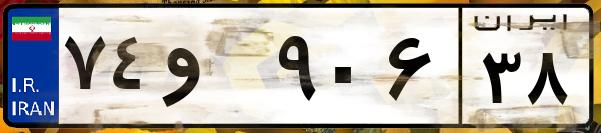0: (330, 28, 385, 110)
3: (475, 38, 525, 113)
4: (110, 28, 158, 98)
6: (385, 28, 445, 110)
7: (57, 26, 110, 100)
8: (525, 38, 570, 115)
9: (270, 28, 330, 110)
و: (158, 20, 270, 120)
